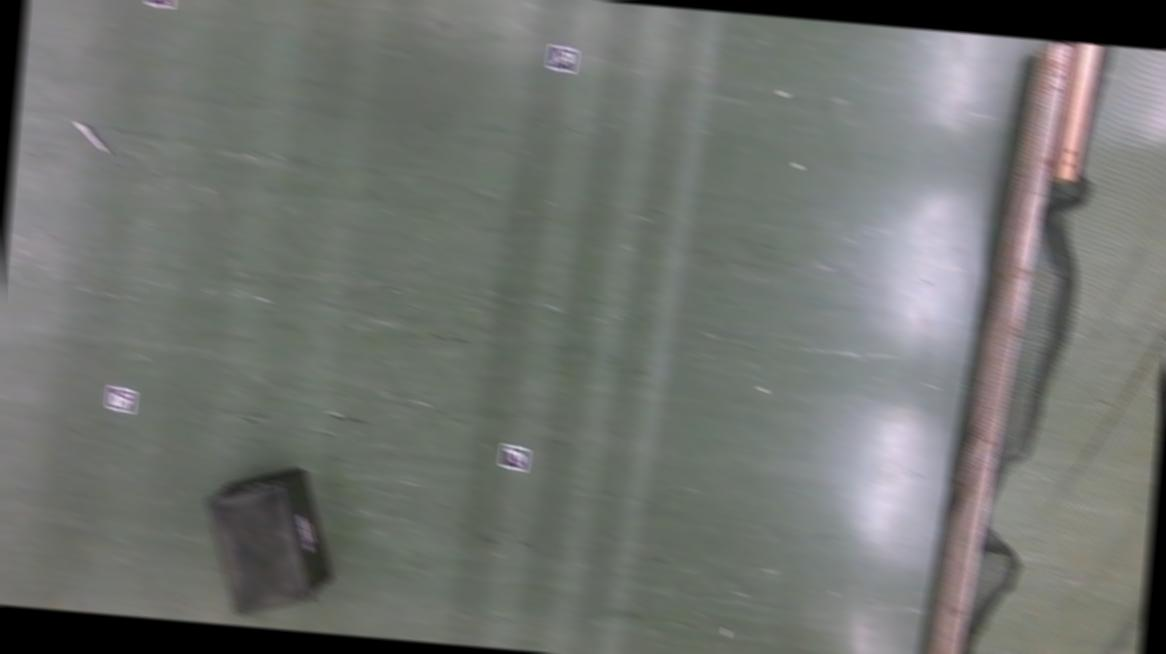probes: (70, 117, 122, 163)
rako: (195, 460, 341, 624)
